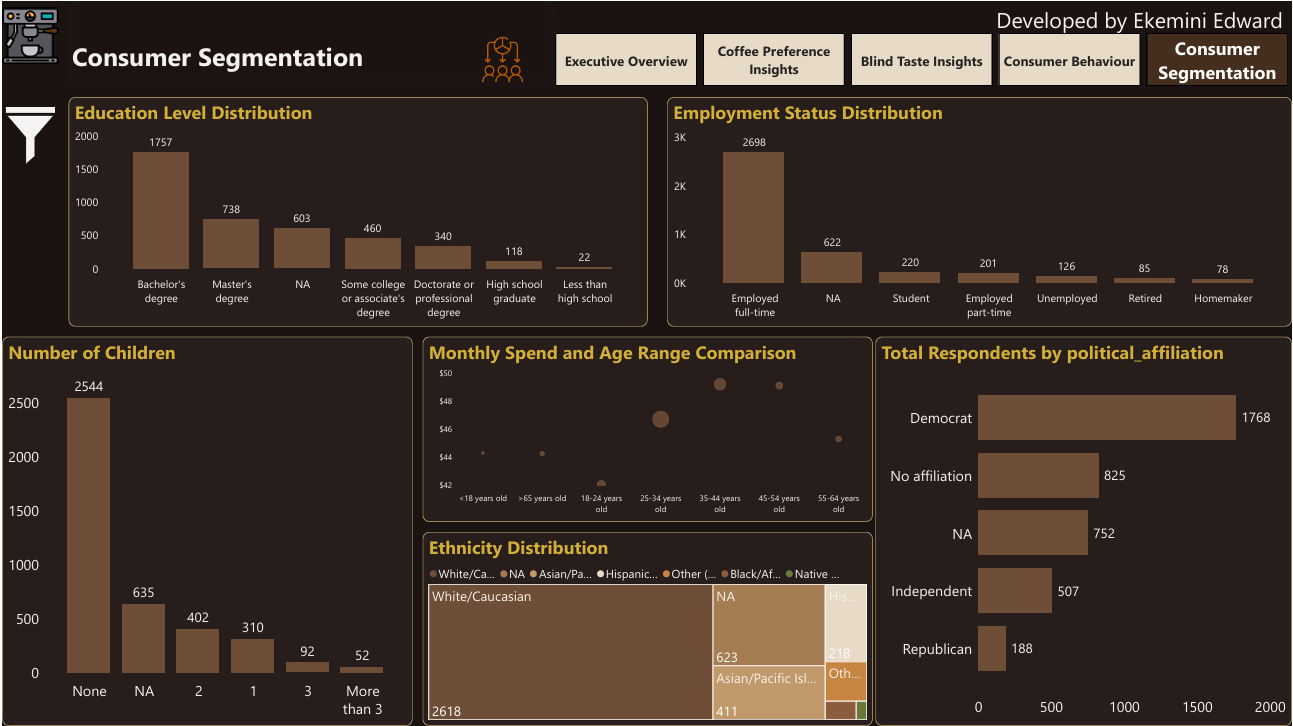

The dashboard page shown, as its layout file describes it:
{"tool":"powerbi","page":{"name":"Consumer Segmentation","canvas":[1920,1080],"ordinal":4},"visuals":[{"type":"textbox","box":[99.2,0,725.1,125.6],"z":0},{"type":"clusteredColumnChart","title":"Education Level Distribution","fields":{"Category":["Coffee_Survey_Facts.education_level"],"Y":["_Measures.Total Respondents"]},"box":[99.2,143.3,861.8,341.6],"z":1000},{"type":"image","box":[0,143.3,83.8,114.6],"z":2000,"group":"g1"},{"type":"clusteredColumnChart","title":"Employment Status Distribution","fields":{"Y":["_Measures.Total Respondents"],"Category":["Coffee_Survey_Facts.employment_status"]},"box":[989.6,143.3,930.1,341.6],"z":2000},{"type":"treemap","title":"Ethnicity Distribution","fields":{"Group":["Coffee_Survey_Facts.ethnicity_race"],"Values":["_Measures.Total Respondents"]},"box":[626,791.3,670,288.7],"z":3000},{"type":"clusteredColumnChart","title":"Number of Children","fields":{"Y":["_Measures.Total Respondents"],"Category":["Coffee_Survey_Facts.number_children"]},"box":[0,500.3,610.5,579.7],"z":4000},{"type":"clusteredBarChart","fields":{"Category":["Coffee_Survey_Facts.political_affiliation"],"Y":["_Measures.Total Respondents"]},"box":[1300.4,500.3,619.3,579.7],"z":5000},{"type":"scatterChart","title":"Monthly Spend and Age Range Comparison","fields":{"X":["Coffee_Survey_Facts.age"],"Y":["_Measures.Avg Monthly Spend"],"Size":["_Measures.Total Respondents"]},"box":[626,500.3,670,275.5],"z":6000},{"type":"group","id":"g1","title":"Group 1","box":[0,141.4,394.3,920.9],"z":7000},{"type":"pageNavigator","box":[824.3,48.5,1093.2,77.1],"z":8000},{"type":"textbox","box":[1474.5,0,445.2,68.3],"z":9000},{"type":"image","box":[687.7,48.5,114.6,77.1],"z":10000},{"type":"image","box":[0,0,83.8,103.6],"z":11000}]}

Visuals, with their boxes in screenshot pixels (x1, y1, x2, y2), scaled from the page's 1920x1080 canvas onto the 1293x726 screenshot:
textbox: x1=67, y1=0, x2=555, y2=84
"Education Level Distribution" clusteredColumnChart: x1=67, y1=96, x2=647, y2=326
image: x1=0, y1=96, x2=56, y2=173
"Employment Status Distribution" clusteredColumnChart: x1=666, y1=96, x2=1292, y2=326
"Ethnicity Distribution" treemap: x1=422, y1=532, x2=873, y2=725
"Number of Children" clusteredColumnChart: x1=0, y1=336, x2=411, y2=725
clusteredBarChart - Coffee_Survey_Facts.political_affiliation x _Measures.Total Respondents: x1=876, y1=336, x2=1292, y2=725
"Monthly Spend and Age Range Comparison" scatterChart: x1=422, y1=336, x2=873, y2=522
"Group 1" group: x1=0, y1=95, x2=266, y2=714
pageNavigator: x1=555, y1=33, x2=1291, y2=84
textbox: x1=993, y1=0, x2=1292, y2=46
image: x1=463, y1=33, x2=540, y2=84
image: x1=0, y1=0, x2=56, y2=70
